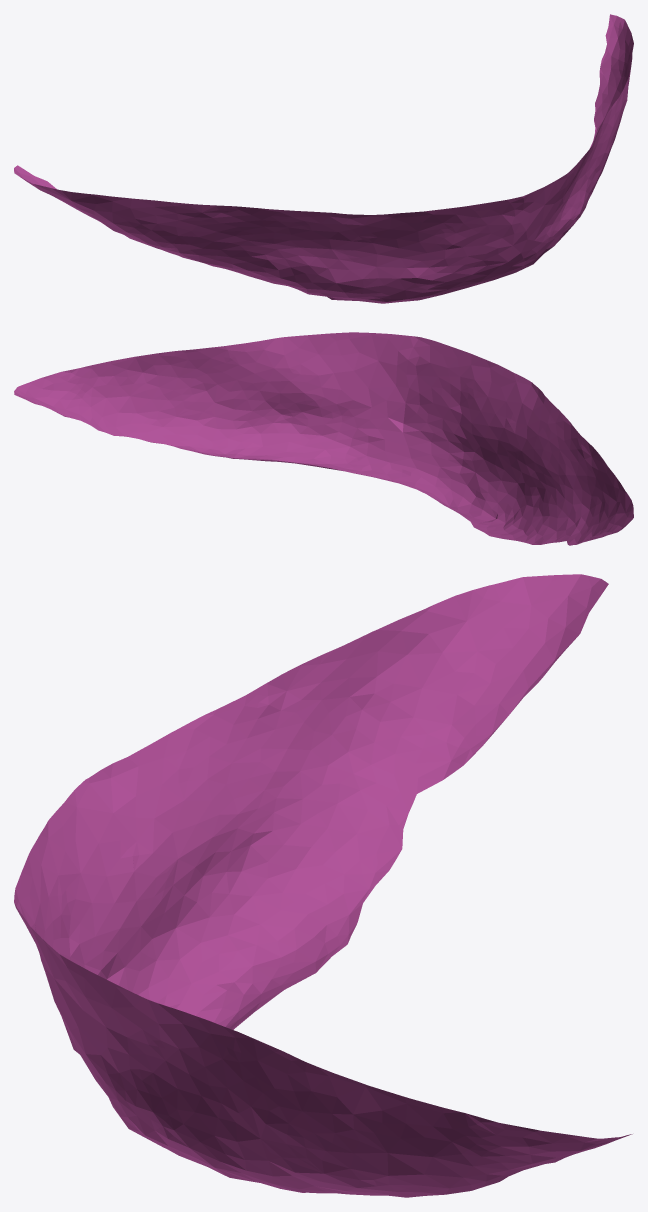
The model's file is chin.obj.
The picture shows the model from 3 angles, top to bottom: view 1: azimuth 30°, elevation 25°; view 2: azimuth 150°, elevation 25°; view 3: azimuth 270°, elevation 25°; orthographic projection. The views are drawn at different scales.
Bounding box in the file's own units: 0.9477 × 0.1766 × 0.4399.
